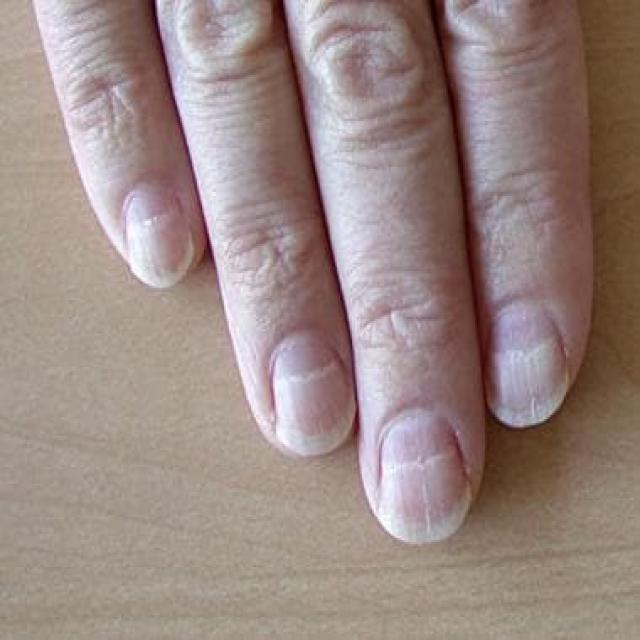Fingernail: (379, 411, 470, 543), (273, 333, 354, 456), (487, 304, 567, 427), (124, 186, 193, 288)
